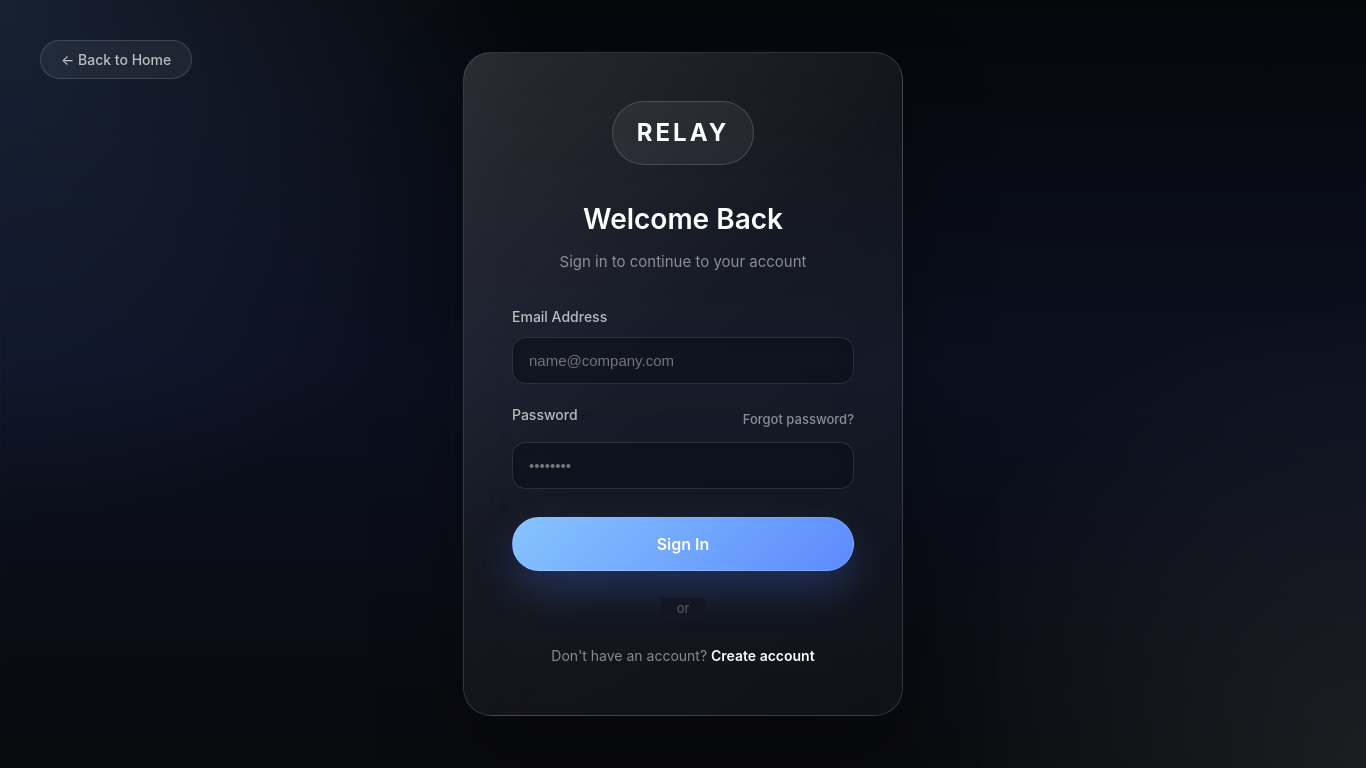
Test case: Login Component › should clear field errors when user starts typing
Click the button "Sign In" at [683, 544], box [512, 517, 854, 571]
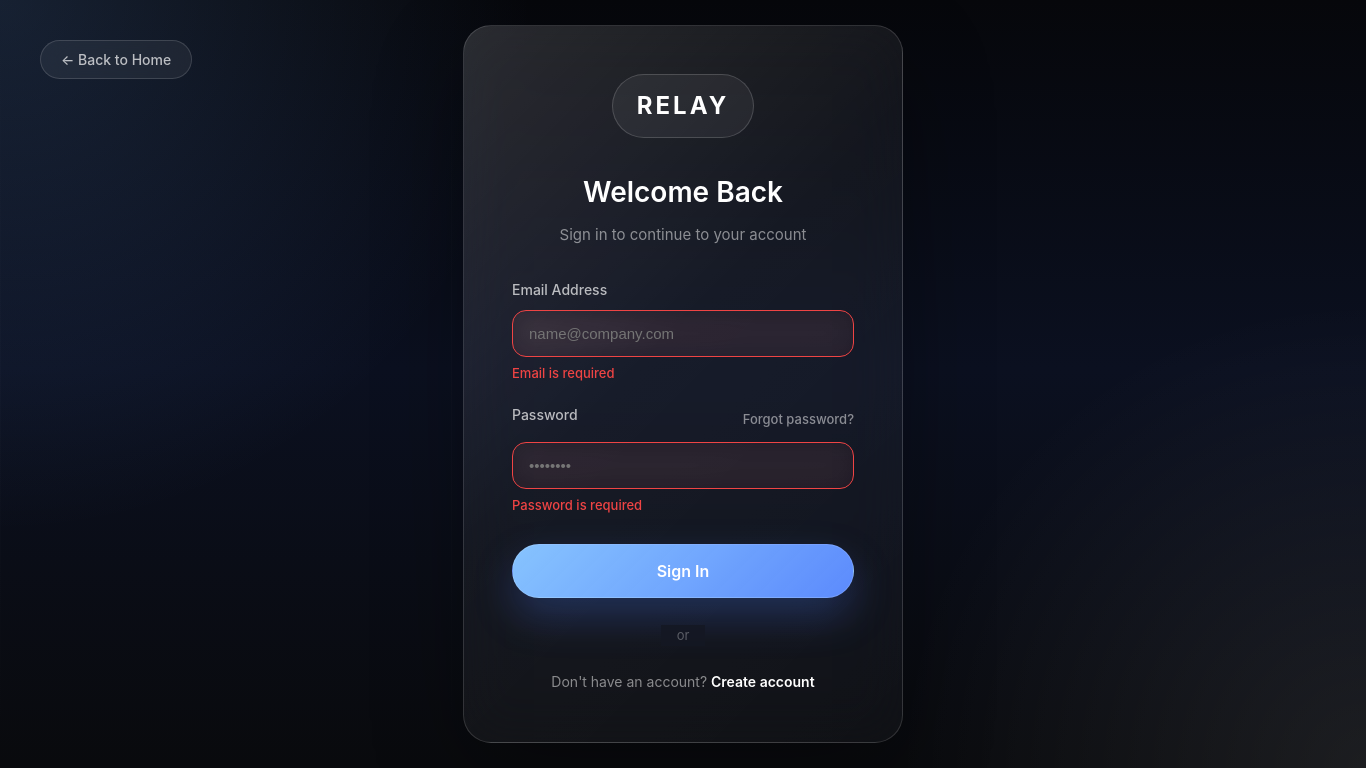
expect the text "Email is required" is shown: met, box [512, 365, 614, 381]
Type "t" into the field labelled "Email Address" at [683, 333], box [512, 310, 854, 357]
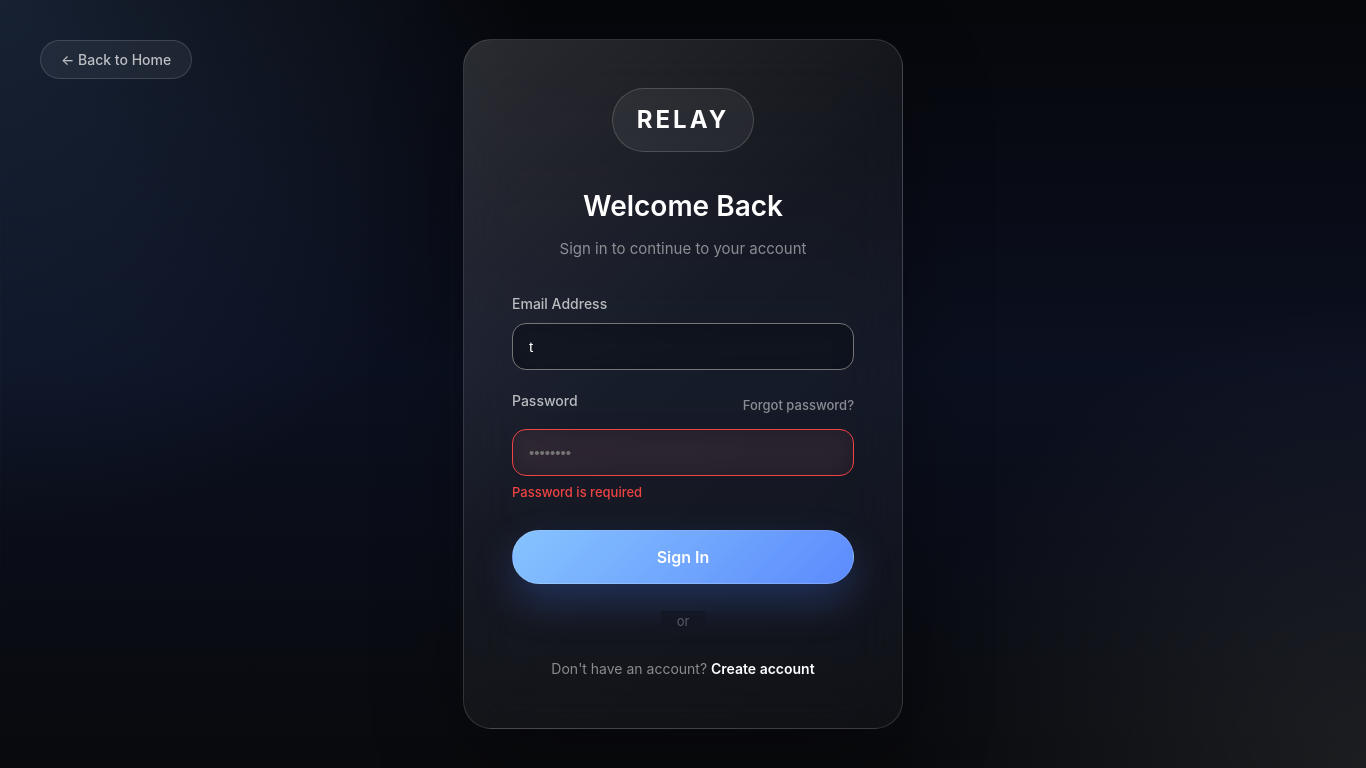
expect the text "Email is required" is gone: met
